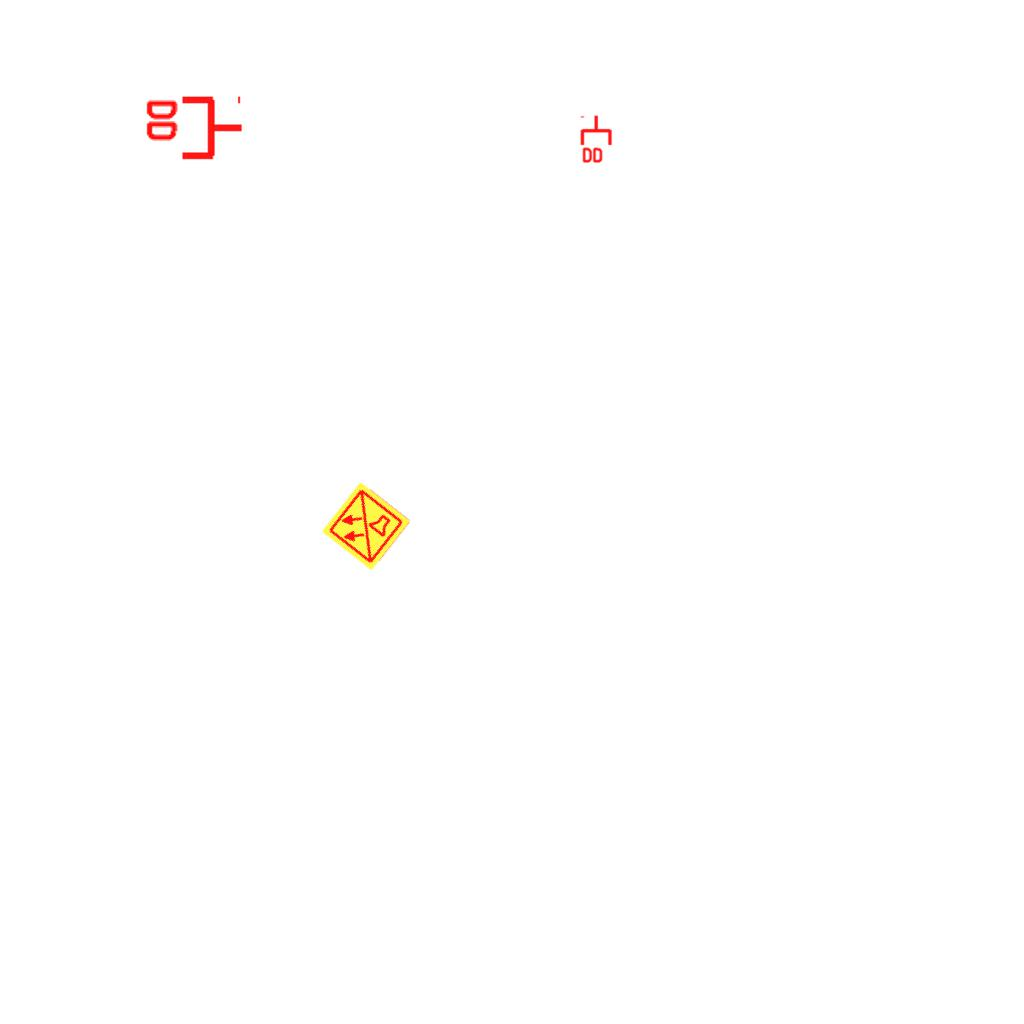Datenanschluss_zweifach: (142, 95, 245, 164), (580, 114, 614, 165)
OKW_Multisensormelder_(Kombination_optischer_Rauch-Kahlenmonoxid_Waerme-Melder): (319, 479, 413, 573)
